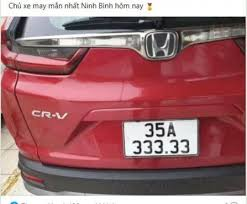number-plate: (125, 122, 201, 155)
